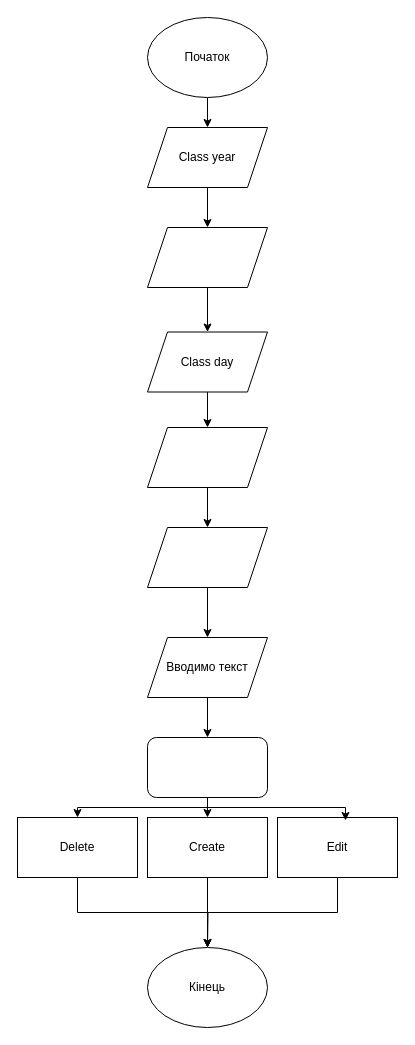
The diagram is 415 pixels wide and 1045 high, and some of its shapes have lost their labels. Here are the shapes that lost their labels. From the top down, the box of each, then its label:
(146, 226, 268, 288): Class month
(146, 426, 268, 488): Class hours
(146, 526, 268, 588): Class min
(146, 736, 268, 798): Вибор команди
